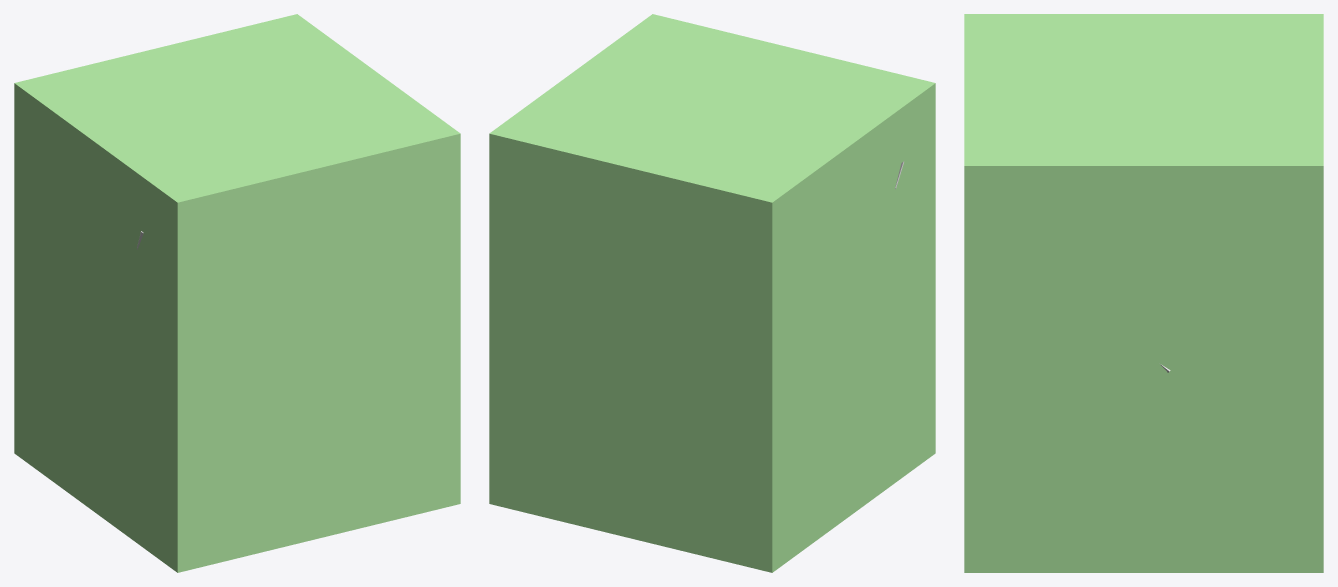
The model's file is Enemy_Melee03.fbx.
3 views of the same model, side by side, from view 1: azimuth 30°, elevation 25°; view 2: azimuth 150°, elevation 25°; view 3: azimuth 270°, elevation 25° (orthographic). The views are drawn at different scales.
Visible parts, largest first — view 1: Cube.002; view 2: Cube.002; view 3: Cube.002.
Boxes of the visible parts, bbox=[...] form: Cube.002: bbox=[14, 14, 460, 572]; Cube.002: bbox=[489, 14, 935, 572]; Cube.002: bbox=[964, 14, 1323, 572].
Size of the model in its own units: 203 by 250 by 200.
